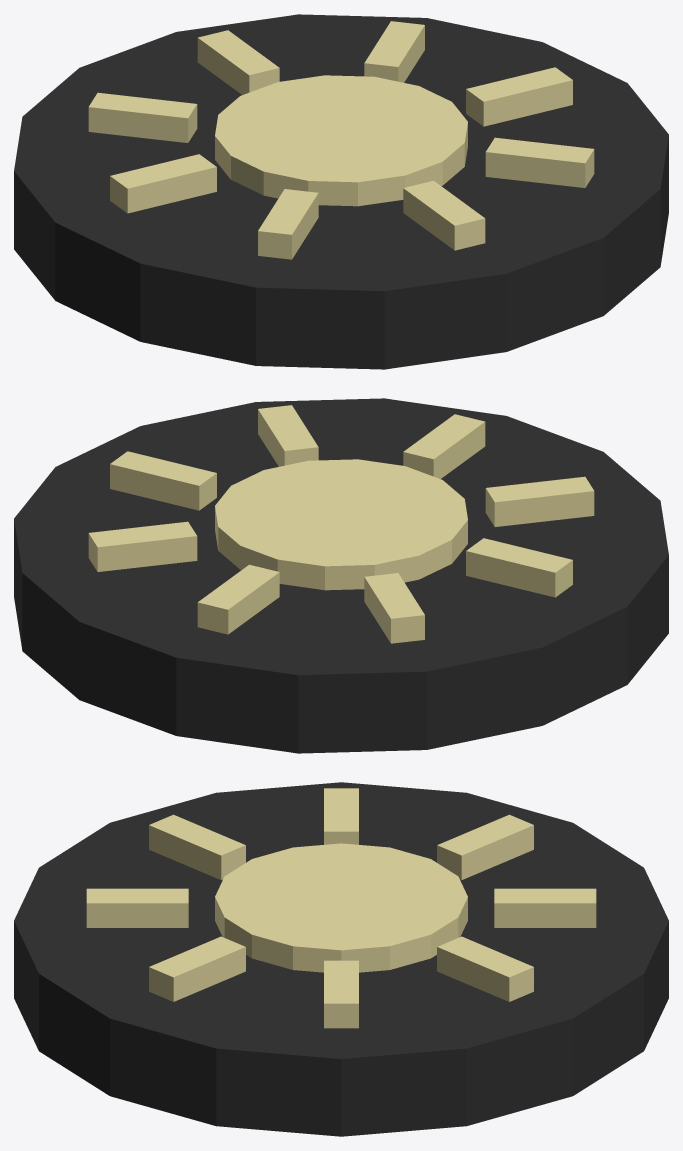
The model's file is TicTacToe_Chip_Sun.fbx.
3 views of the same model, one above another, from view 1: azimuth 30°, elevation 25°; view 2: azimuth 150°, elevation 25°; view 3: azimuth 270°, elevation 25° (orthographic).
Visible parts, largest first — view 1: TicTacToe_Chip_Sun; view 2: TicTacToe_Chip_Sun; view 3: TicTacToe_Chip_Sun.
Boxes of the visible parts, bbox=[...] form: TicTacToe_Chip_Sun: bbox=[14, 14, 668, 369]; TicTacToe_Chip_Sun: bbox=[14, 398, 668, 753]; TicTacToe_Chip_Sun: bbox=[14, 782, 668, 1136].
Size of the model in its own units: 102 by 17.53 by 102.
